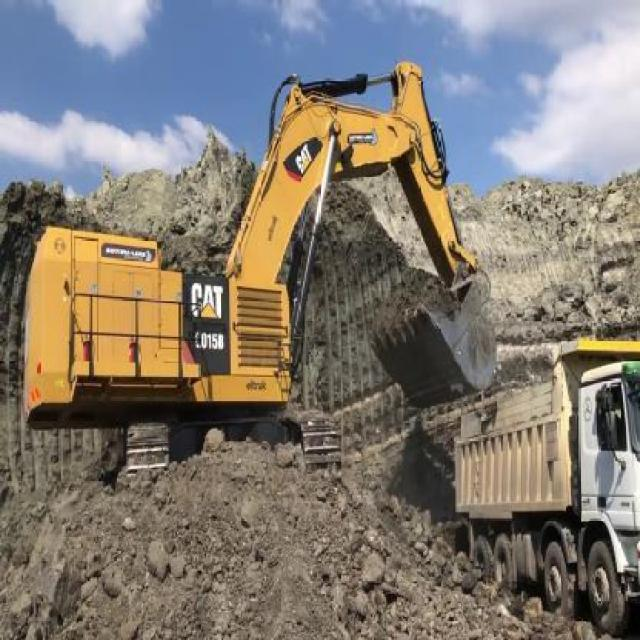dump_truck: (455, 337, 640, 635)
excavator: (20, 51, 498, 491)
